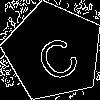C: (28, 26, 84, 85)
